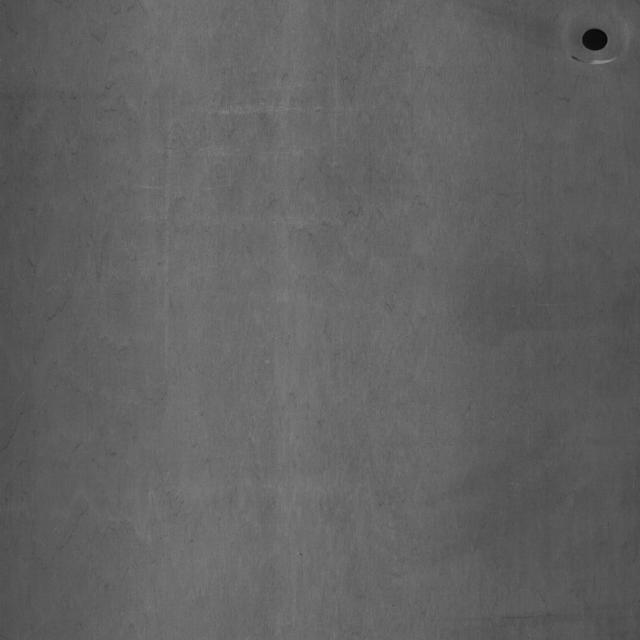crescent_gap: (580, 17, 614, 58)
inclusion: (220, 23, 400, 541), (10, 45, 158, 570)
